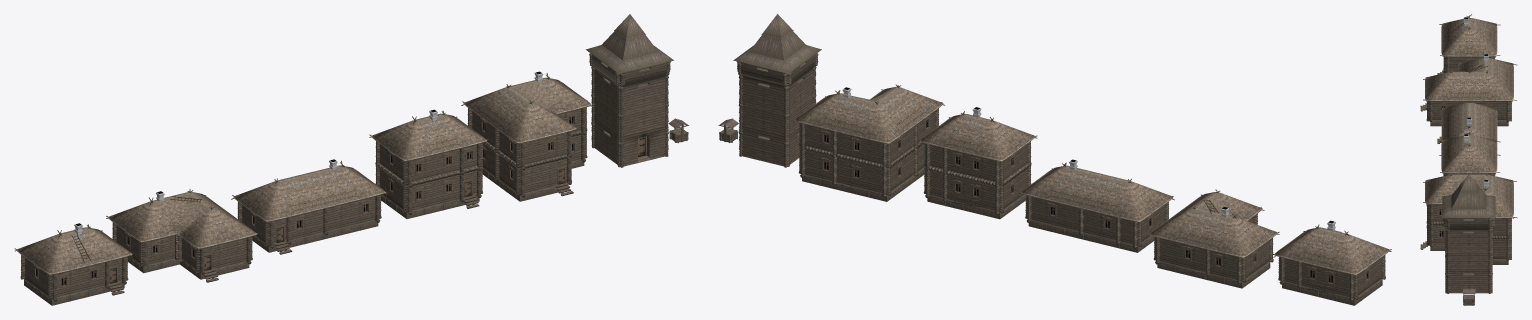
File: log.glb
3 views of the same model, side by side, from view 1: azimuth 30°, elevation 25°; view 2: azimuth 150°, elevation 25°; view 3: azimuth 270°, elevation 25° (orthographic). The views are drawn at different scales.
Visible parts, largest first — view 1: log-hall, log-tower, log-house-4, log-house-2, log-house-3, log-house-1; view 2: log-hall, log-house-4, log-tower, log-house-3, log-house-2, log-house-1; view 3: log-tower, log-house-2, log-hall, log-house-1, log-house-4, log-house-3, well.
Boxes of the visible parts, x1,y1,x2,y2 form: log-hall: (461, 71, 593, 201); log-tower: (586, 14, 673, 167); log-house-4: (369, 109, 488, 218); log-house-2: (106, 189, 258, 282); log-house-3: (231, 159, 387, 254); log-house-1: (14, 223, 133, 305); log-hall: (793, 84, 945, 201); log-house-4: (917, 107, 1037, 219); log-tower: (733, 14, 821, 167); log-house-3: (1019, 159, 1174, 252); log-house-2: (1147, 189, 1279, 288); log-house-1: (1272, 220, 1391, 305); log-tower: (1442, 175, 1495, 293); log-house-2: (1420, 54, 1517, 126); log-hall: (1420, 172, 1517, 264); log-house-1: (1437, 14, 1500, 74); log-house-4: (1439, 131, 1500, 175); log-house-3: (1437, 100, 1500, 175); well: (1462, 289, 1475, 305).
Bounding box in the file's own units: 90.42 × 18.13 × 14.52.
1 material, 1 textured.
